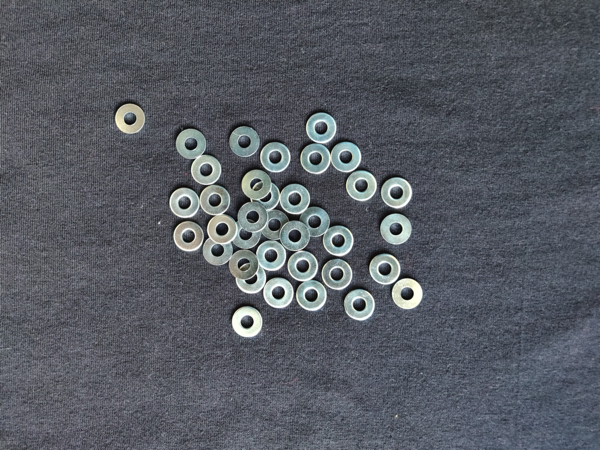circle: (378, 212, 414, 247), (391, 276, 427, 311), (205, 213, 239, 246), (173, 221, 207, 254), (231, 305, 265, 338), (200, 184, 233, 217), (173, 128, 207, 160), (227, 125, 259, 159), (344, 289, 376, 323), (296, 280, 330, 312), (235, 264, 270, 295), (381, 176, 414, 208), (241, 168, 273, 201), (323, 223, 355, 256), (167, 188, 200, 220), (321, 258, 354, 290), (330, 140, 362, 172), (280, 183, 312, 215), (191, 154, 223, 186), (201, 235, 233, 267), (262, 278, 294, 310), (237, 201, 268, 234), (256, 240, 287, 273), (369, 254, 402, 285), (113, 104, 144, 136), (259, 209, 290, 241), (227, 249, 259, 280), (304, 113, 337, 143), (298, 205, 331, 235), (250, 181, 281, 212), (347, 169, 377, 201), (287, 251, 319, 281), (280, 221, 311, 251), (301, 143, 331, 173), (230, 219, 260, 249), (261, 142, 290, 172)
